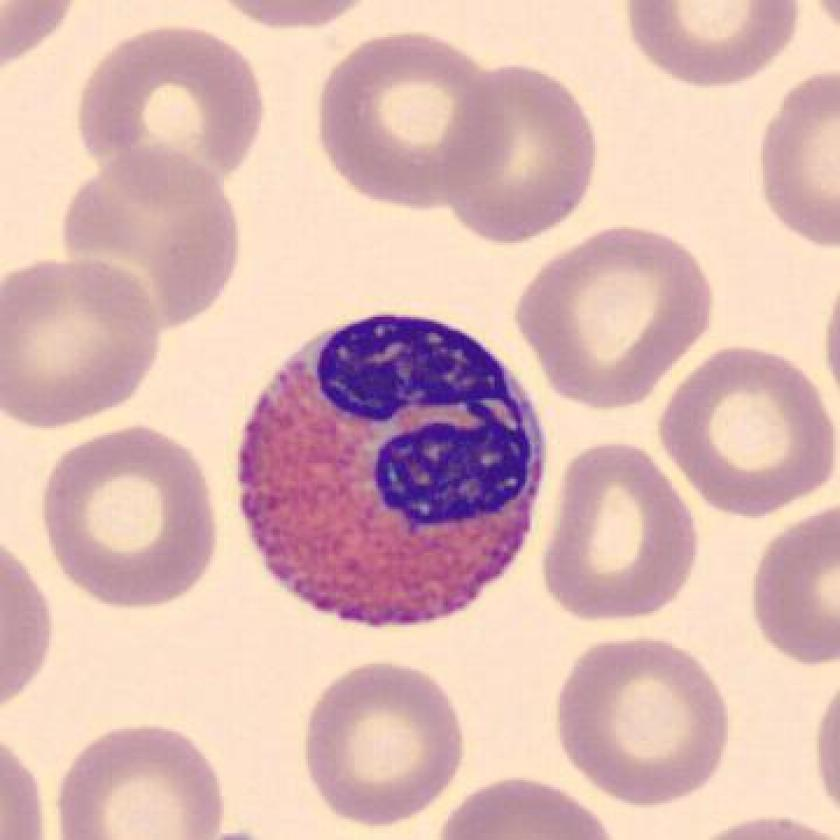eosinophil: (230, 302, 554, 640)
